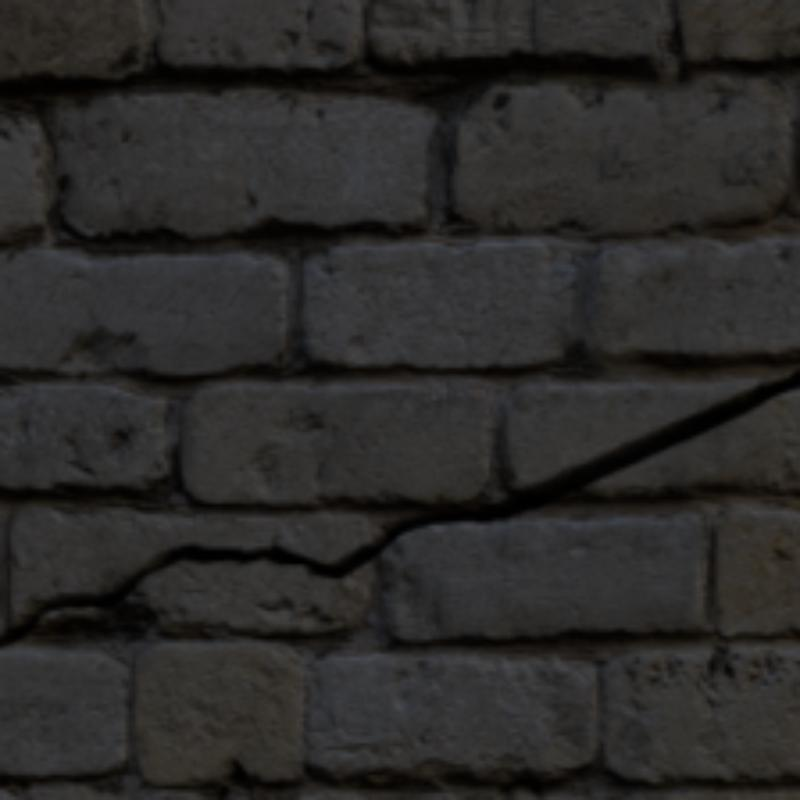crack: (0, 368, 796, 643)
